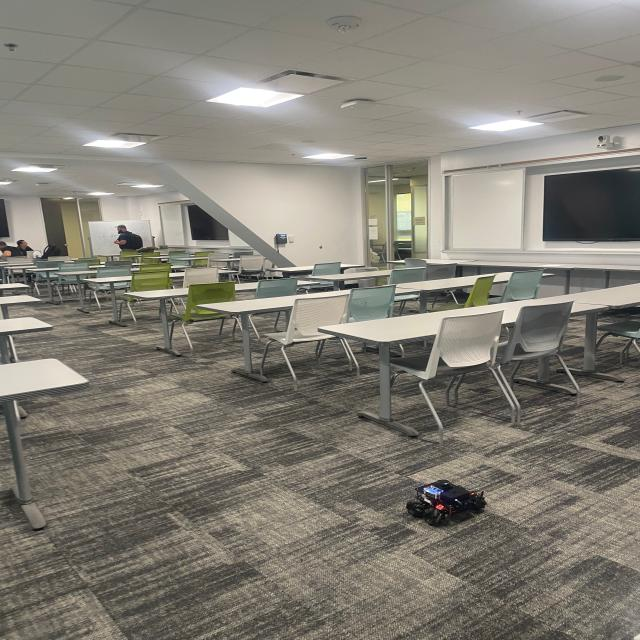ArduinoCar: (404, 478, 493, 527)
